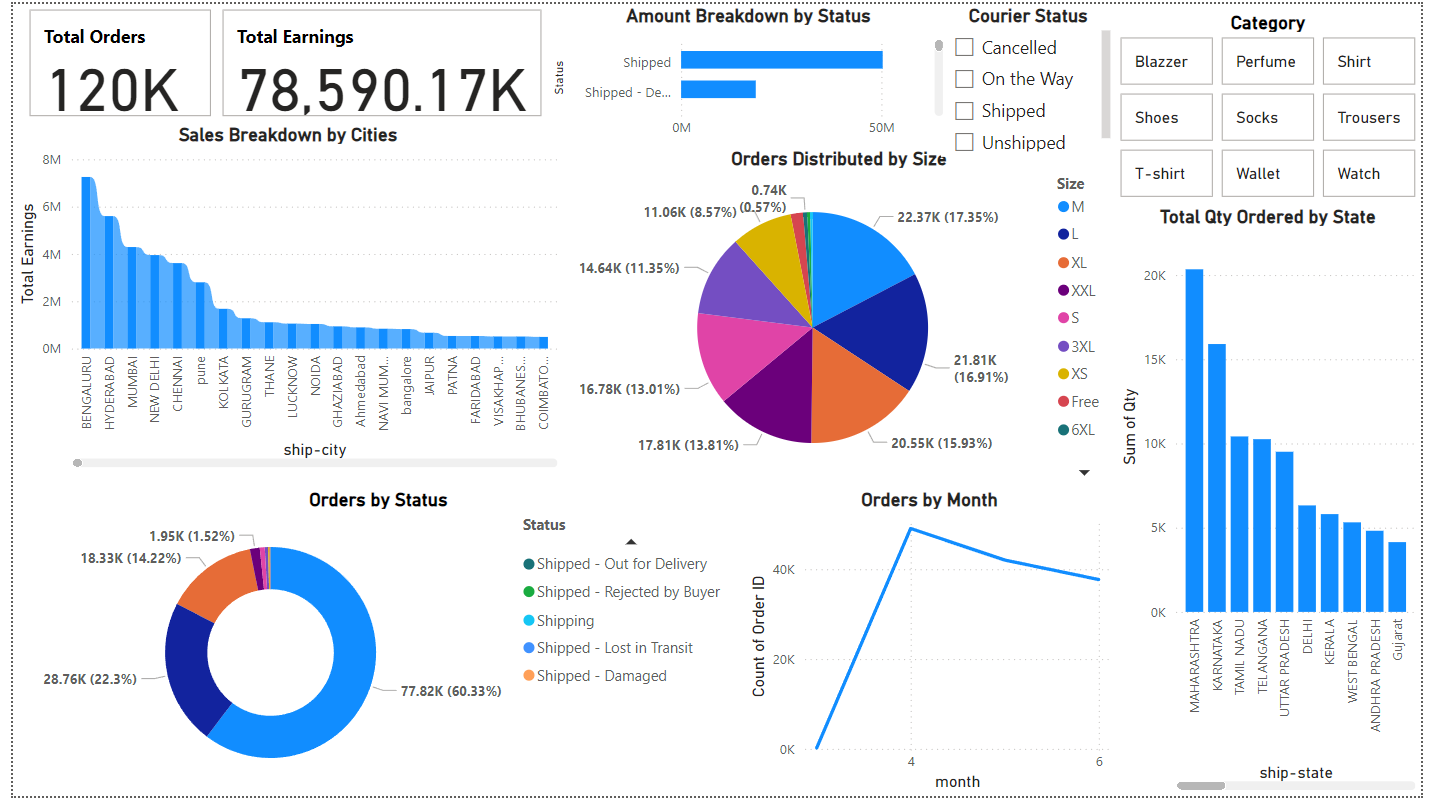

The page's visual inventory and layout, read from the dashboard file:
{"tool":"powerbi","page":{"name":"Page 1","canvas":[1280,720],"ordinal":0},"visuals":[{"type":"cardVisual","fields":{"Data":["Amazon Sale Report.Total Orders"]},"box":[10,0,175.2,107.5],"z":0},{"type":"donutChart","title":"Orders by Status","fields":{"Category":["Amazon Sale Report.Status"],"Y":["CountNonNull(Amazon Sale Report.Order ID)"]},"box":[0,439.6,664.3,280.1],"z":1000},{"type":"lineChart","title":"Orders by Month","fields":{"Category":["Amazon Sale Report.month"],"Y":["CountNonNull(Amazon Sale Report.Order ID)"]},"box":[664.3,439.6,337.5,280.1],"z":2000},{"type":"clusteredColumnChart","title":"Total Qty Ordered by State","fields":{"Category":["Amazon Sale Report.ship-state"],"Y":["Sum(Amazon Sale Report.Qty)"]},"box":[1001.8,182.9,278.2,536.9],"z":3000},{"type":"cardVisual","fields":{"Data":["Amazon Sale Report.Total Earnings"]},"box":[185.4,0,300.9,107.5],"z":4000},{"type":"advancedSlicerVisual","fields":{"Values":["Amazon Sale Report.Category"]},"box":[1001.8,6.8,278.2,176],"z":5000},{"type":"pieChart","title":"Orders Distributed by Size","fields":{"Category":["Amazon Sale Report.Size"],"Y":["CountNonNull(Amazon Sale Report.Order ID)"]},"box":[499.9,130.3,501.9,309.3],"z":6000},{"type":"slicer","title":"Courier Status","fields":{"Values":["Amazon Sale Report.Courier Status"]},"box":[843.6,0,158.5,138.8],"z":7000},{"type":"ribbonChart","title":"Sales Breakdown by Cities","fields":{"Y":["Amazon Sale Report.Total Earnings"],"Category":["Amazon Sale Report.ship-city"]},"box":[0,108,499.9,318.1],"z":8000},{"type":"barChart","title":"Amount Breakdown by Status","fields":{"Category":["Amazon Sale Report.Status"],"Y":["Sum(Amazon Sale Report.Amount)"]},"box":[486.3,0,364.5,130.7],"z":9000}]}

Visuals, with their boxes in screenshot pixels (x1, y1, x2, y2), scaled from the page's 1280x720 canvas onto the 1435x799 screenshot:
cardVisual - Amazon Sale Report.Total Orders: left=11, top=0, right=208, bottom=119
"Orders by Status" donutChart: left=0, top=488, right=745, bottom=798
"Orders by Month" lineChart: left=745, top=488, right=1123, bottom=798
"Total Qty Ordered by State" clusteredColumnChart: left=1123, top=203, right=1434, bottom=798
cardVisual - Amazon Sale Report.Total Earnings: left=208, top=0, right=545, bottom=119
advancedSlicerVisual - Amazon Sale Report.Category: left=1123, top=8, right=1434, bottom=203
"Orders Distributed by Size" pieChart: left=560, top=145, right=1123, bottom=488
"Courier Status" slicer: left=946, top=0, right=1123, bottom=154
"Sales Breakdown by Cities" ribbonChart: left=0, top=120, right=560, bottom=473
"Amount Breakdown by Status" barChart: left=545, top=0, right=954, bottom=145
